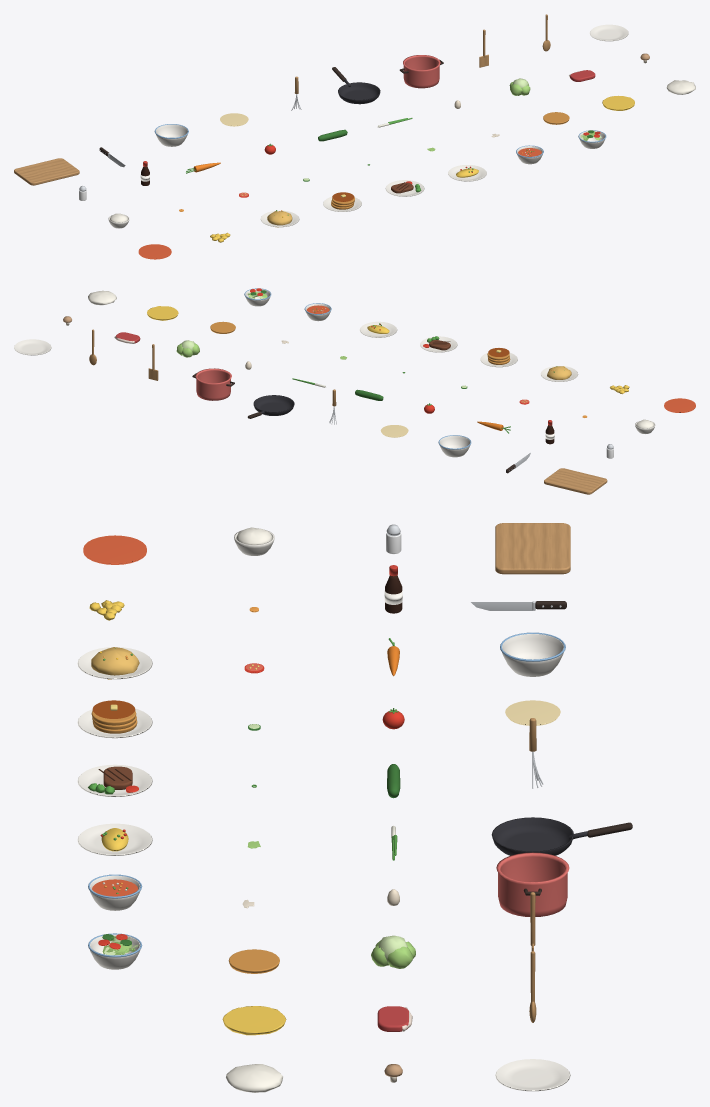
The model's file is cooking_kit.glb.
The picture shows the model from 3 angles, top to bottom: view 1: azimuth 30°, elevation 25°; view 2: azimuth 150°, elevation 25°; view 3: azimuth 270°, elevation 25°; orthographic projection. The views are drawn at different scales.
Parts seen in each view (by area): view 1: kit_pot, kit_board, kit_pan, kit_bowl, kit_dish_pancakes, kit_dish_fried_rice, kit_plate, kit_dish_steak, kit_dish_omelette, kit_soup, kit_dish_salad, kit_dish_soup (+1 smaller); view 2: kit_pot, kit_board, kit_pan, kit_bowl, kit_dish_pancakes, kit_plate, kit_dish_steak, kit_dish_omelette, kit_dish_fried_rice, kit_dish_salad, kit_dish_soup, kit_soup (+2 smaller); view 3: kit_pot, kit_board, kit_pan, kit_bowl, kit_dish_pancakes, kit_dish_fried_rice, kit_plate, kit_dish_omelette, kit_dish_steak, kit_soup, kit_dish_soup, kit_dish_salad (+6 smaller).
Boxes of the visible parts, <box> form: kit_pot: <box>399,55,443,88</box>; kit_board: <box>14,158,79,185</box>; kit_pan: <box>332,67,380,104</box>; kit_bowl: <box>154,124,188,146</box>; kit_dish_pancakes: <box>323,192,361,211</box>; kit_dish_fried_rice: <box>260,210,299,227</box>; kit_plate: <box>589,24,628,41</box>; kit_dish_steak: <box>385,180,424,196</box>; kit_dish_omelette: <box>448,165,486,181</box>; kit_soup: <box>138,244,171,259</box>; kit_dish_salad: <box>578,130,606,148</box>; kit_dish_soup: <box>516,145,543,164</box>; kit_pot: <box>192,368,234,400</box>; kit_board: <box>544,468,607,494</box>; kit_pan: <box>247,395,294,418</box>; kit_bowl: <box>438,435,471,457</box>; kit_dish_pancakes: <box>480,348,517,367</box>; kit_plate: <box>14,339,51,355</box>; kit_dish_steak: <box>420,336,457,352</box>; kit_dish_omelette: <box>359,321,397,337</box>; kit_dish_fried_rice: <box>540,366,578,381</box>; kit_dish_salad: <box>244,288,271,306</box>; kit_dish_soup: <box>304,303,331,321</box>; kit_soup: <box>664,398,695,412</box>; kit_pot: <box>496,852,569,916</box>; kit_board: <box>495,523,570,574</box>; kit_pan: <box>491,817,632,855</box>; kit_bowl: <box>500,632,565,676</box>; kit_dish_pancakes: <box>77,700,152,738</box>; kit_dish_fried_rice: <box>77,647,152,679</box>; kit_plate: <box>495,1059,570,1091</box>; kit_dish_omelette: <box>77,823,152,855</box>; kit_dish_steak: <box>77,764,152,796</box>; kit_soup: <box>83,535,146,564</box>; kit_dish_soup: <box>88,874,142,910</box>; kit_dish_salad: <box>88,933,142,969</box>.
Bounding box in the file's own units: 5.8 × 0.3662 × 2.39.
Materials: 36 (1 with a texture image).
